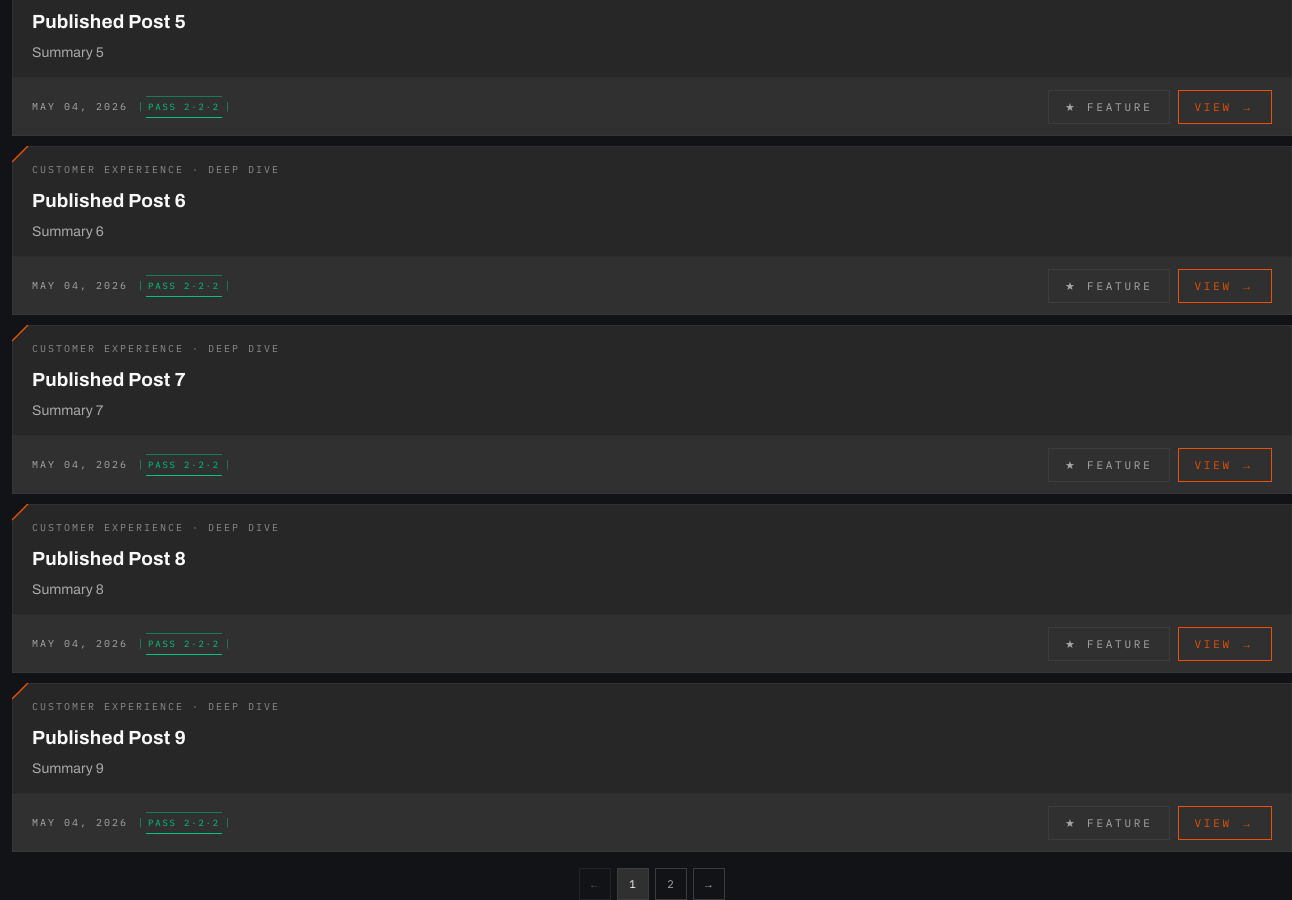
Test: PublishedClient › paginates 10 per page and fetches the next page on click
(page scrolled)
# Two pages → a pagination control with a "Page 2" button.
Click the button named "Page 2": (671, 884) x1=655 y1=868 x2=687 y2=899
(page scrolled)
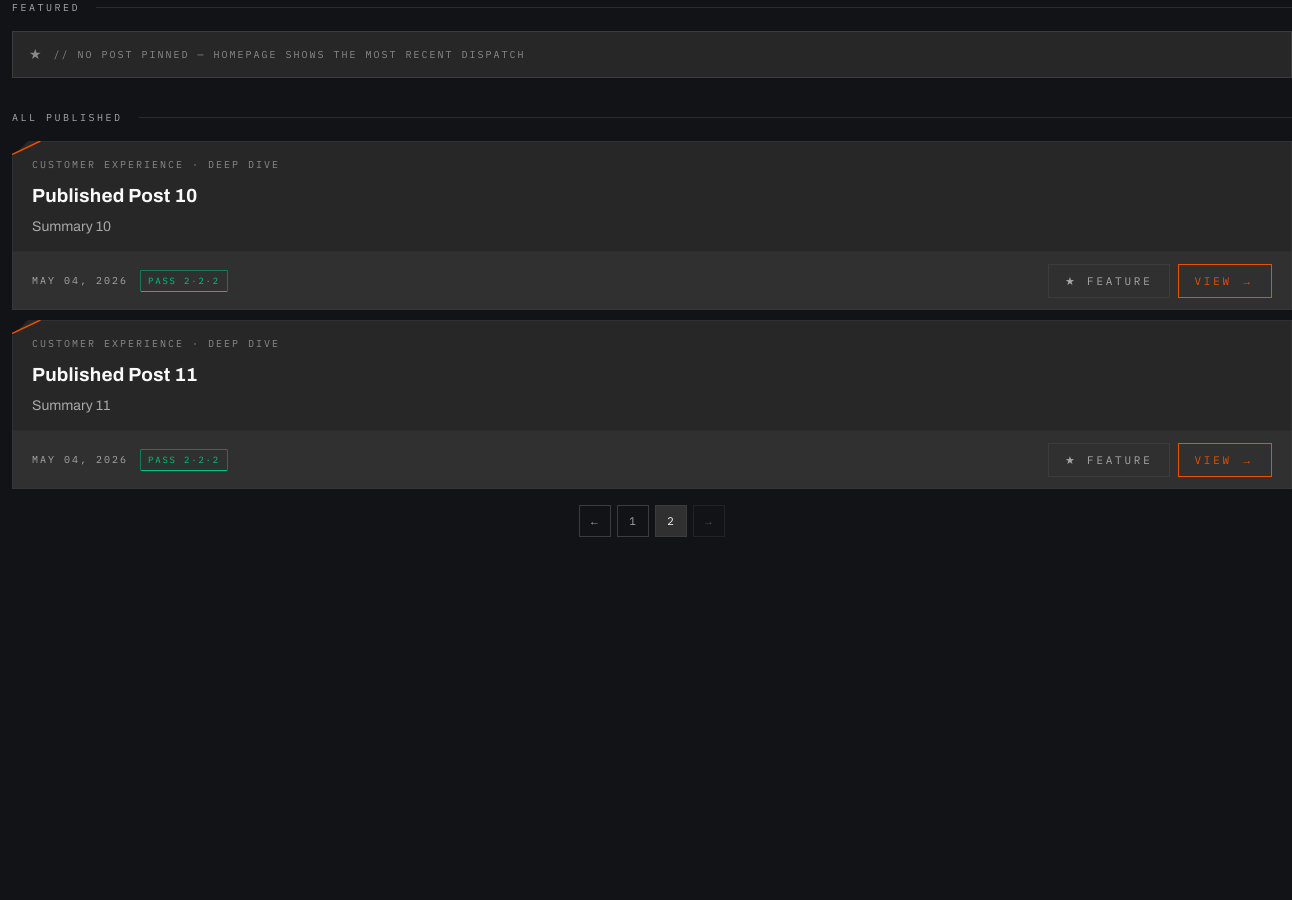
expect the number of elements with test id "published-row" is 2: met, box x1=12 y1=141 x2=1291 y2=310; x1=12 y1=320 x2=1291 y2=489
